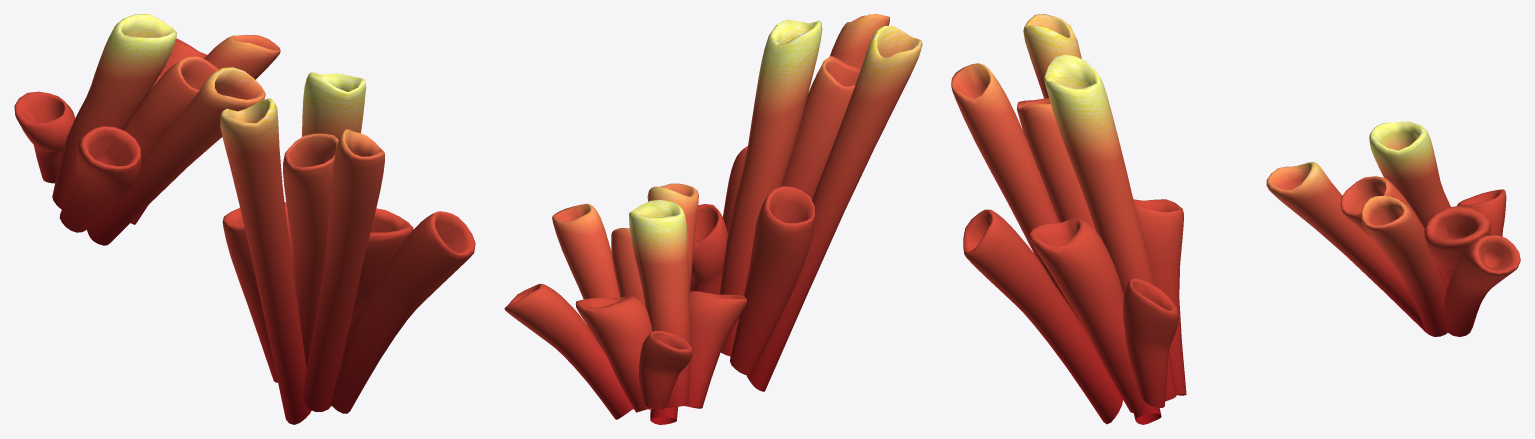
File: plant_61.fbx
3 renders of one model, left to right at view 1: azimuth 30°, elevation 25°; view 2: azimuth 150°, elevation 25°; view 3: azimuth 270°, elevation 25°, orthographic. The views are drawn at different scales.
Parts seen in each view (by area): view 1: qq:shanhu_04_coral_h0026_coral_h0027, qq:shanhu_04_coral_h009_coral_h0011; view 2: qq:shanhu_04_coral_h0026_coral_h0027, qq:shanhu_04_coral_h009_coral_h0011; view 3: qq:shanhu_04_coral_h0026_coral_h0027, qq:shanhu_04_coral_h009_coral_h0011.
Boxes of the visible parts, box(x1,y1,x2,y2) form: qq:shanhu_04_coral_h0026_coral_h0027: box(220, 72, 475, 424); qq:shanhu_04_coral_h009_coral_h0011: box(14, 14, 280, 245); qq:shanhu_04_coral_h0026_coral_h0027: box(689, 14, 922, 391); qq:shanhu_04_coral_h009_coral_h0011: box(504, 183, 746, 424); qq:shanhu_04_coral_h0026_coral_h0027: box(951, 14, 1186, 424); qq:shanhu_04_coral_h009_coral_h0011: box(1266, 121, 1520, 336).
Bounding box in the file's own units: 1.71 × 2.73 × 3.89.
